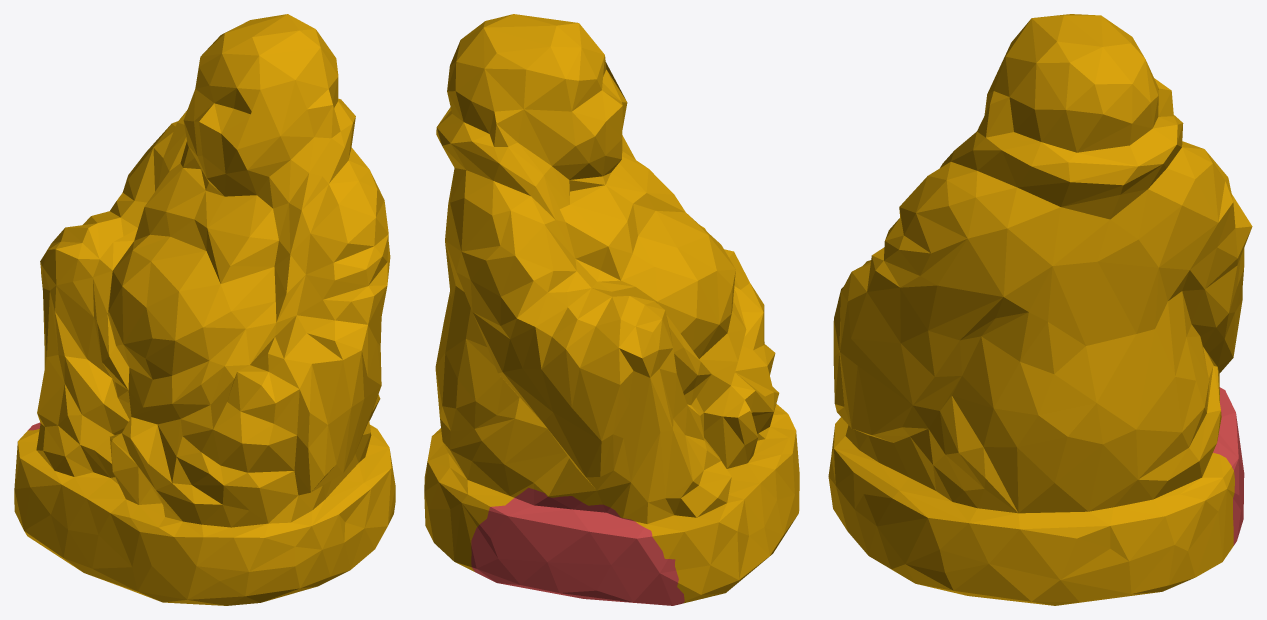
File: fractured_44_2pcs.glb
3 renders of one model, left to right at view 1: azimuth 30°, elevation 25°; view 2: azimuth 150°, elevation 25°; view 3: azimuth 270°, elevation 25°, orthographic. The views are drawn at different scales.
Parts seen in each view (by area): view 1: piece_0.obj; view 2: piece_0.obj, piece_1.obj; view 3: piece_0.obj, piece_1.obj.
Boxes of the visible parts, x1=… form: piece_0.obj: x1=14, y1=14, x2=395, y2=605; piece_0.obj: x1=424, y1=14, x2=799, y2=603; piece_1.obj: x1=471, y1=487, x2=684, y2=605; piece_0.obj: x1=828, y1=14, x2=1252, y2=605; piece_1.obj: x1=1213, y1=387, x2=1244, y2=545.
Bounding box in the file's own units: 0.6824 × 1 × 0.7125.
